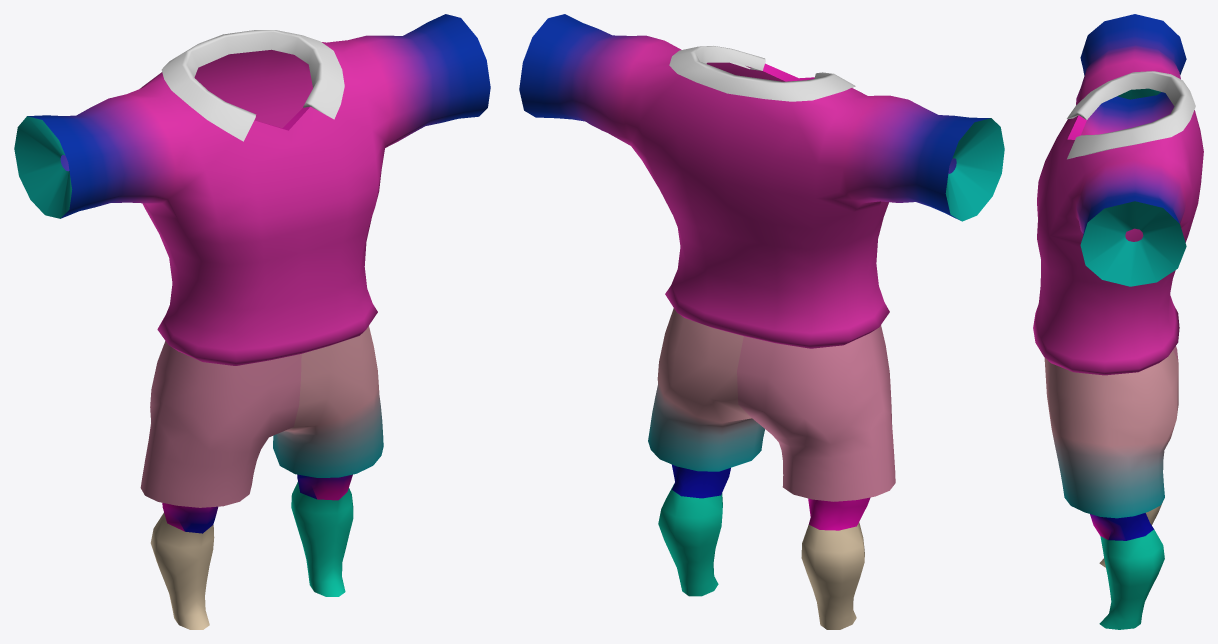
File: 00_Muscular.fbx
The picture shows the model from 3 angles, left to right: view 1: azimuth 30°, elevation 25°; view 2: azimuth 150°, elevation 25°; view 3: azimuth 270°, elevation 25°; orthographic projection. The views are drawn at different scales.
Visible parts, largest first — view 1: u000106_20, u000106_30, collar_10; view 2: u000106_20, u000106_30, collar_10; view 3: u000106_20, u000106_30, collar_10.
Boxes of the visible parts, x1,y1,x2,y2 form: u000106_20: (14,14,490,365); u000106_30: (140,326,383,629); collar_10: (161,30,344,141); u000106_20: (519,14,1004,348); u000106_30: (648,308,895,629); collar_10: (669,46,855,101); u000106_20: (1033,14,1203,375); u000106_30: (1044,346,1178,629); collar_10: (1067,71,1195,159).
Size of the model in its own units: 137 by 170 by 52.73.
